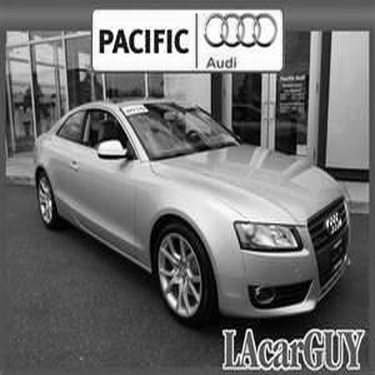car: (25, 90, 352, 330)
